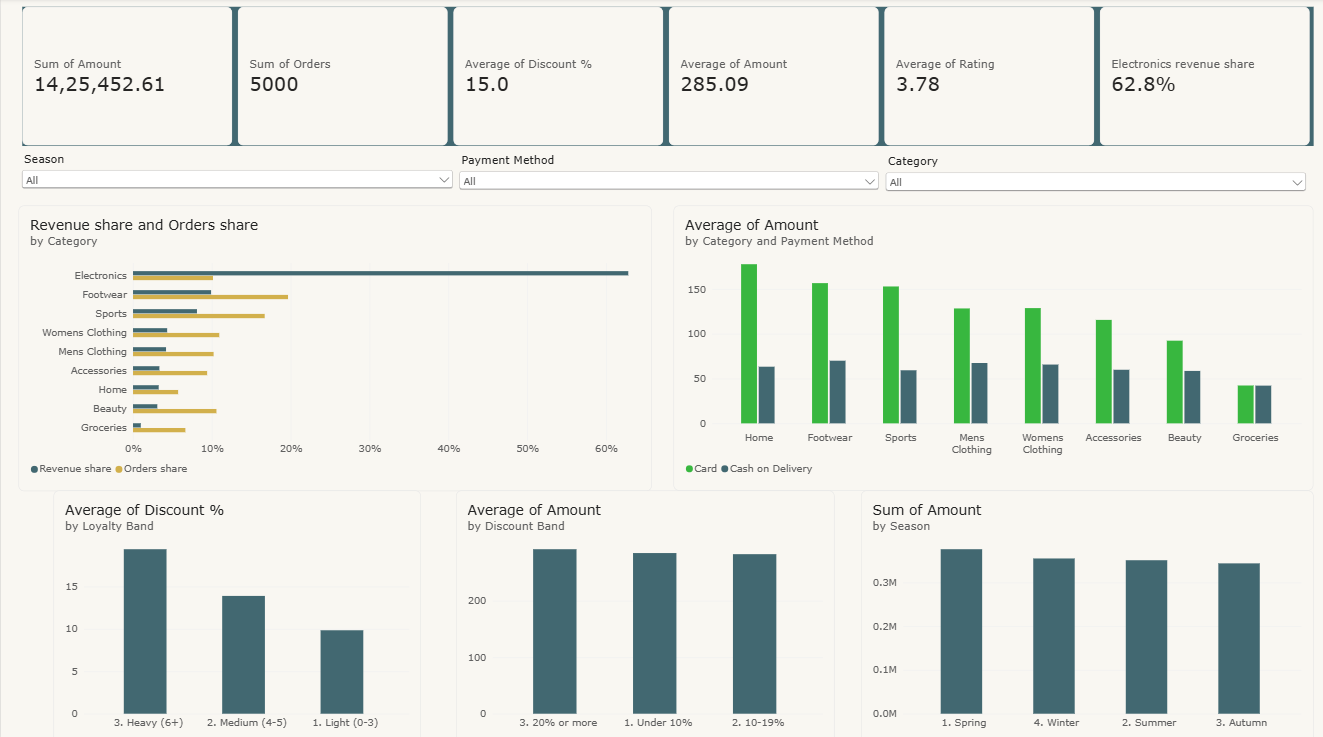

The dashboard page shown, as its layout file describes it:
{"tool":"powerbi","page":{"name":"Page 1","canvas":[1920,1080],"ordinal":0},"visuals":[{"type":"cardVisual","fields":{"Data":["Sum(store_orders.Amount)","Sum(store_orders.Orders)","Avg(store_orders.Discount %)","Avg(store_orders.Amount)","Avg(store_orders.Rating)","store_orders.Electronics revenue share"]},"box":[30.8,12.7,1869.8,201.9],"z":0},{"type":"slicer","fields":{"Values":["store_orders.Season"]},"box":[25.3,222.6,634,111.3],"z":1},{"type":"slicer","fields":{"Values":["store_orders.Payment Method"]},"box":[658.7,224.4,617,111.3],"z":2},{"type":"slicer","fields":{"Values":["store_orders.Category"]},"box":[1275.8,226.2,618.9,111.3],"z":3},{"type":"clusteredBarChart","fields":{"Category":["store_orders.Category"],"Y":["store_orders.Revenue share","store_orders.Orders share"]},"box":[25.3,300.4,917,413.2],"z":4},{"type":"clusteredColumnChart","fields":{"Category":["store_orders.Category"],"Series":["store_orders.Payment Method"],"Y":["Avg(store_orders.Amount)"]},"box":[973.6,300.4,926.5,412.6],"z":5},{"type":"clusteredColumnChart","fields":{"Category":["store_orders.Loyalty Band"],"Y":["Avg(store_orders.Discount %)"]},"box":[76,713,532,367.4],"z":6},{"type":"clusteredColumnChart","fields":{"Category":["store_orders.Discount Band"],"Y":["Avg(store_orders.Amount)"]},"box":[658.7,713,548.3,367.4],"z":7},{"type":"clusteredColumnChart","fields":{"Category":["store_orders.Season"],"Y":["Sum(store_orders.Amount)"]},"box":[1245,713,655.1,367.4],"z":8}]}

Visuals, with their boxes in screenshot pixels (x1, y1, x2, y2), scaled from the page's 1920x1080 canvas onto the 1323x737 screenshot:
cardVisual - Sum(store_orders.Amount) x Sum(store_orders.Orders): select_region(21, 9, 1310, 146)
slicer - store_orders.Season: select_region(17, 152, 454, 228)
slicer - store_orders.Payment Method: select_region(454, 153, 879, 229)
slicer - store_orders.Category: select_region(879, 154, 1306, 230)
clusteredBarChart - store_orders.Category x store_orders.Revenue share: select_region(17, 205, 649, 487)
clusteredColumnChart - store_orders.Category x store_orders.Payment Method: select_region(671, 205, 1309, 487)
clusteredColumnChart - store_orders.Loyalty Band x Avg(store_orders.Discount %): select_region(52, 487, 419, 736)
clusteredColumnChart - store_orders.Discount Band x Avg(store_orders.Amount): select_region(454, 487, 832, 736)
clusteredColumnChart - store_orders.Season x Sum(store_orders.Amount): select_region(858, 487, 1309, 736)
